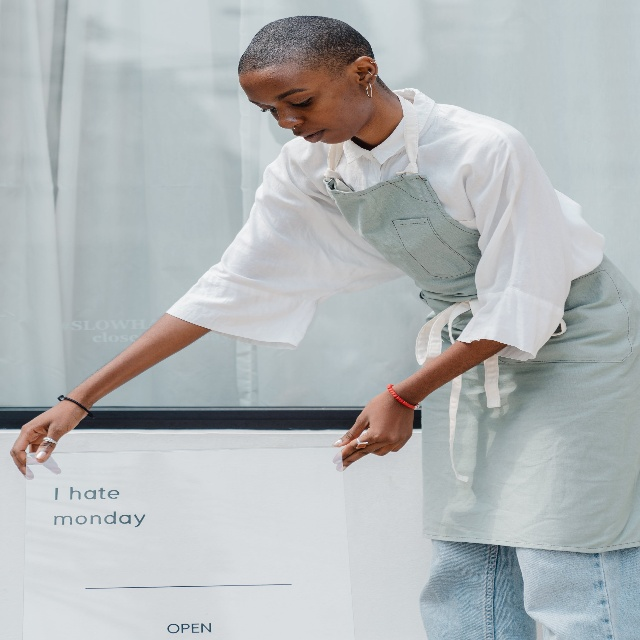Sin_guantes: (331, 378, 417, 473), (9, 399, 92, 481)
